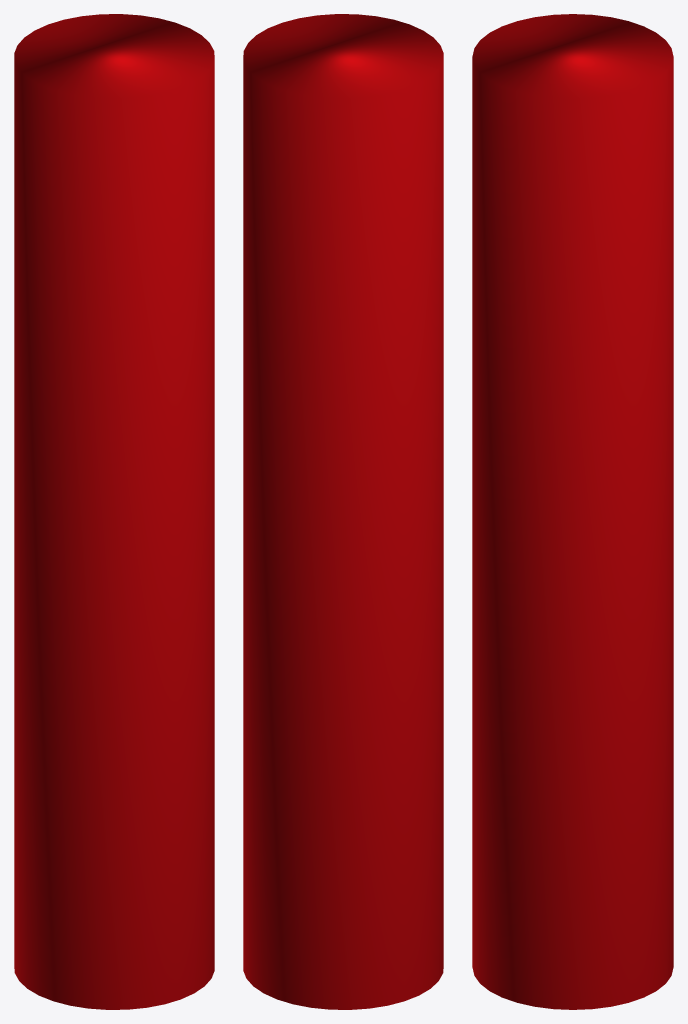
The model's file is bullet.fbx.
The picture shows the model from 3 angles, left to right: view 1: azimuth 30°, elevation 25°; view 2: azimuth 150°, elevation 25°; view 3: azimuth 270°, elevation 25°; orthographic projection.
Parts seen in each view (by area): view 1: Cylinder; view 2: Cylinder; view 3: Cylinder.
Part boxes in pixels (box(x1,y1,x2,y2)): Cylinder: box(14, 14, 214, 1009); Cylinder: box(243, 14, 443, 1009); Cylinder: box(472, 14, 673, 1009).
Bounding box in the file's own units: 200 × 1000 × 200.
